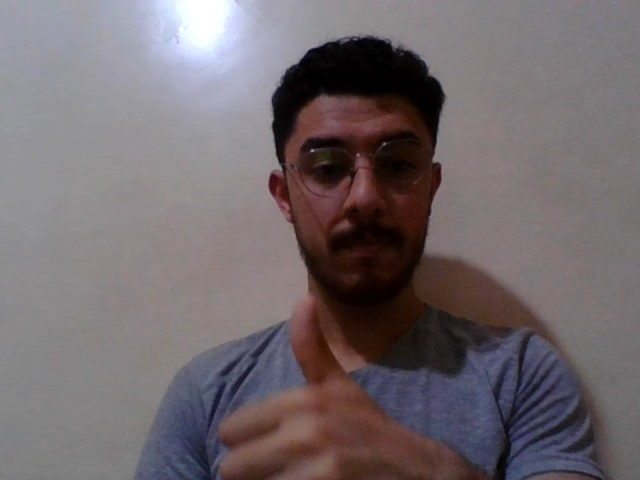Yes: (185, 288, 473, 480)
